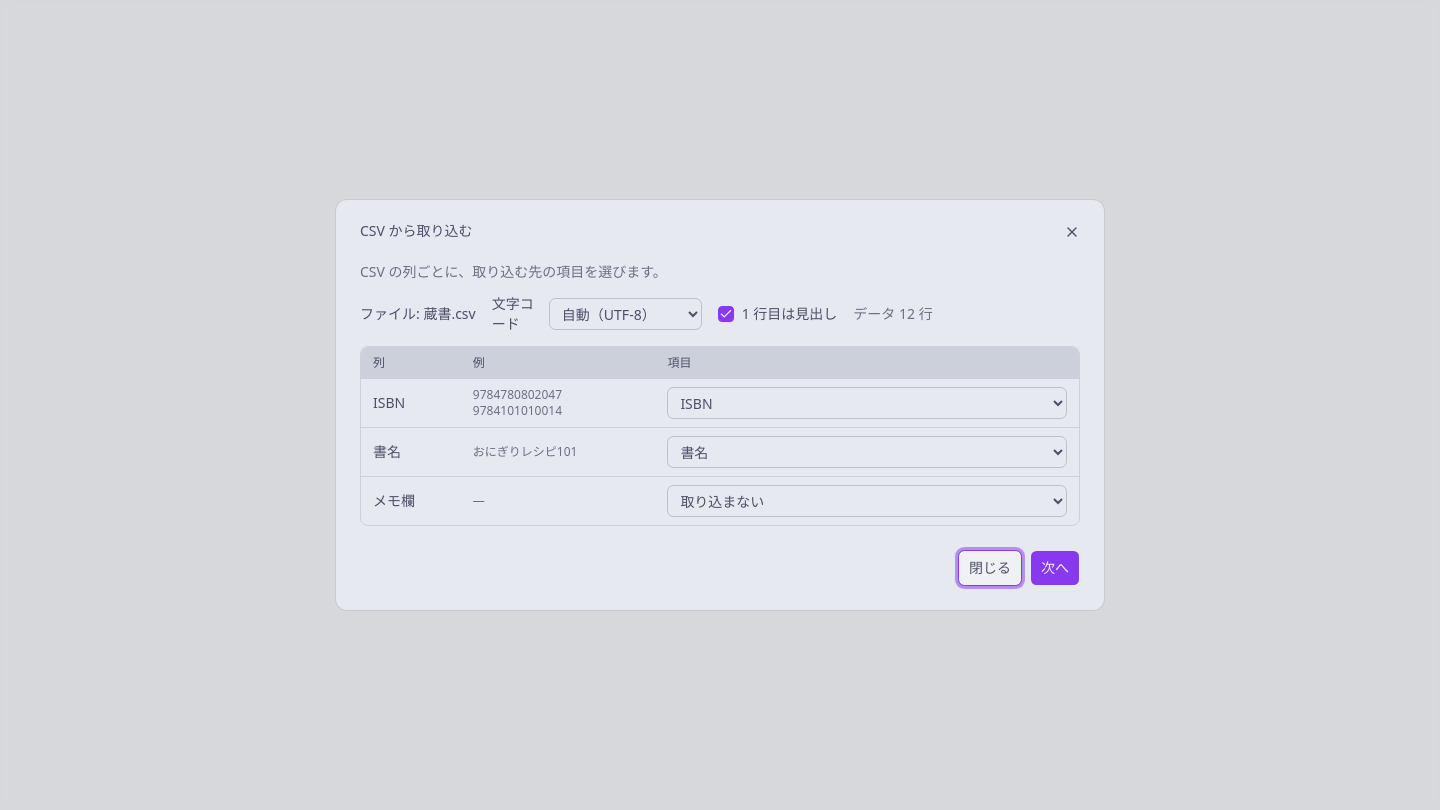
Test: 列の対応 › ISBN も書名も対応づけていないと、次へは進めない。選べば進める
Check: the text "データ 12 行" is shown, box x1=853 y1=304 x2=933 y2=324
Step 1. Select "取り込まない" in the 2nd dropdown → (867, 403), box x1=667 y1=387 x2=1067 y2=419
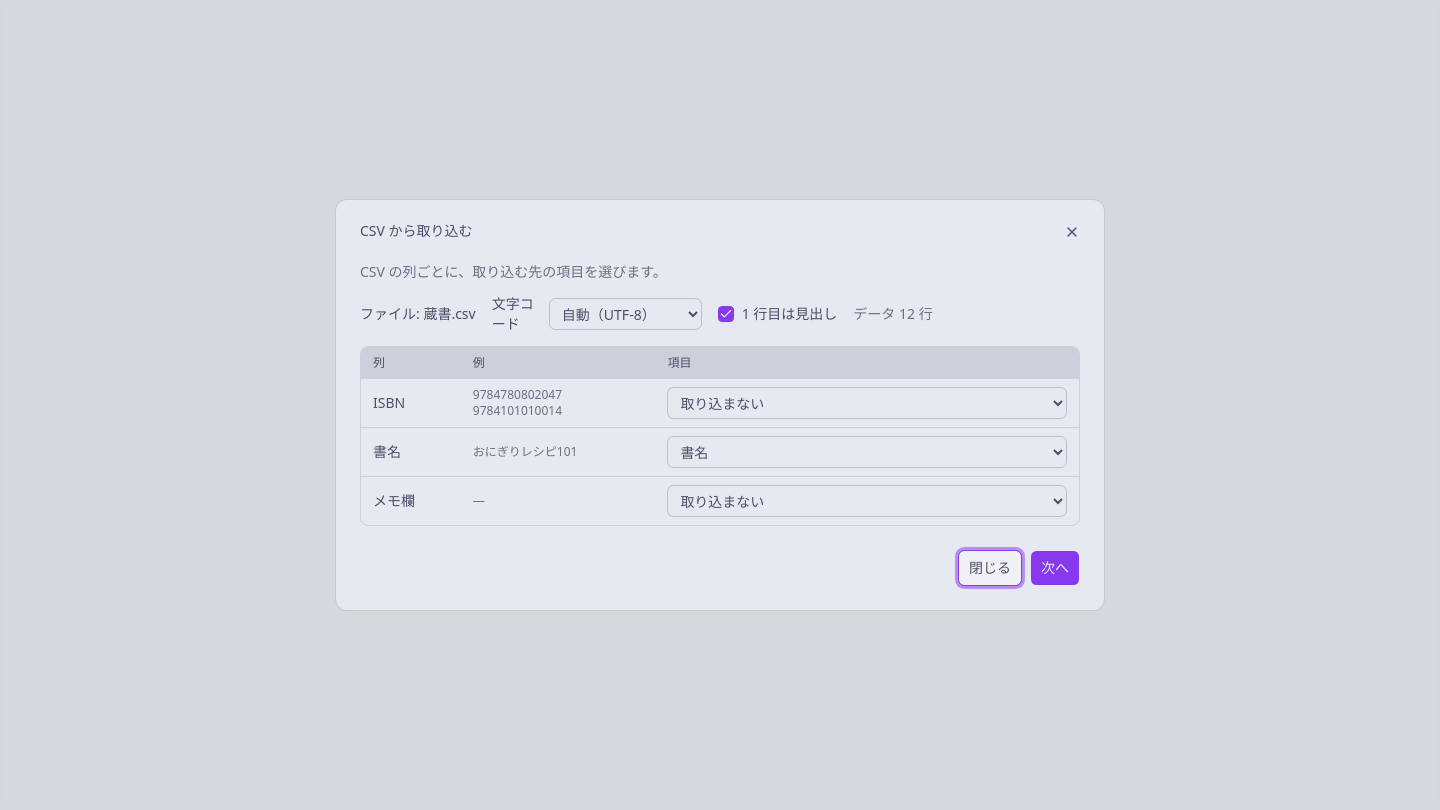
Step 2. Select "著者" in the 3rd dropdown → (867, 452), box x1=667 y1=436 x2=1067 y2=468
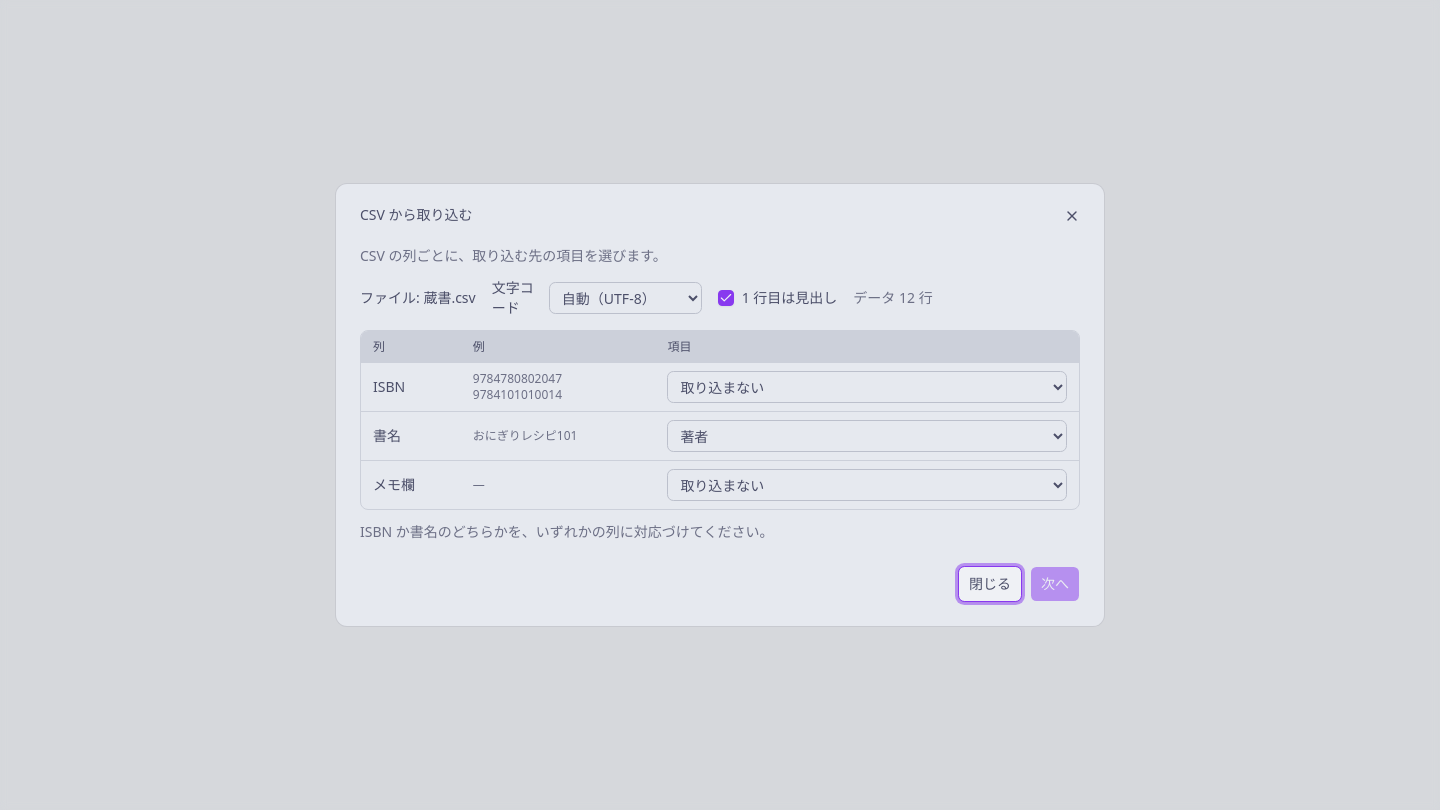
Check: the button "次へ" is disabled, box x1=1030 y1=566 x2=1080 y2=602
Step 3. Select "書名" in the 4th dropdown → (867, 485), box x1=667 y1=469 x2=1067 y2=501
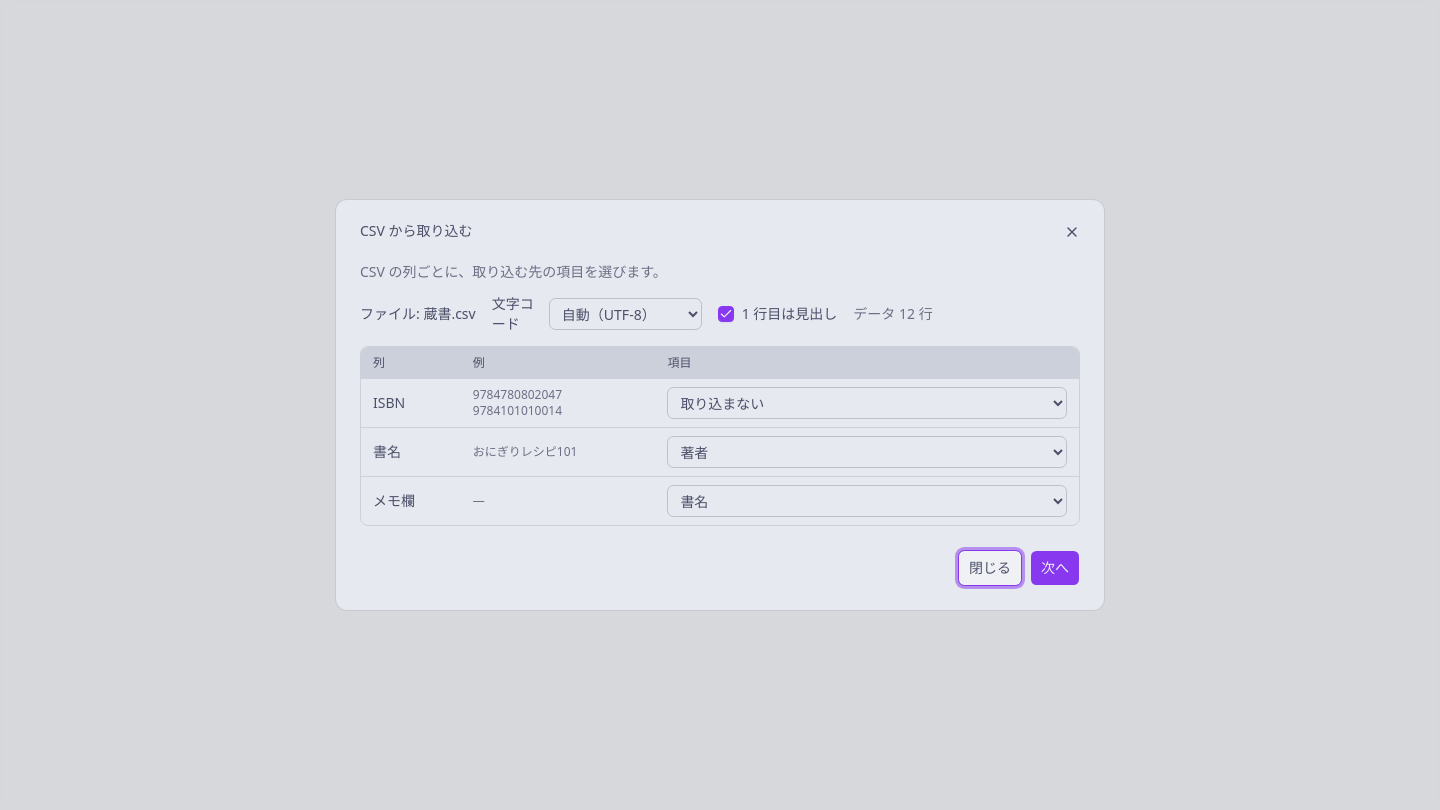
Check: the button "次へ" is enabled, box x1=1030 y1=550 x2=1080 y2=586
